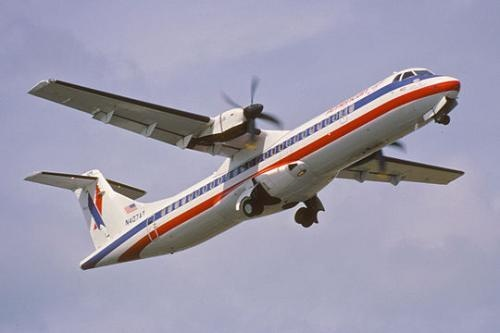airplane: (21, 48, 469, 282)
